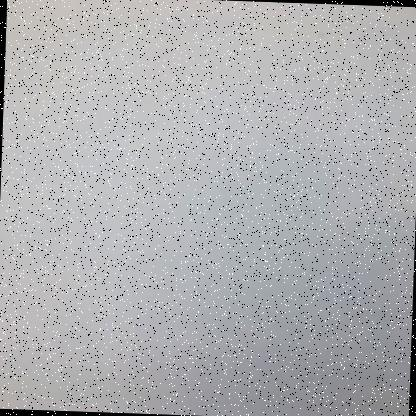Nocrack: (9, 14, 409, 406)
